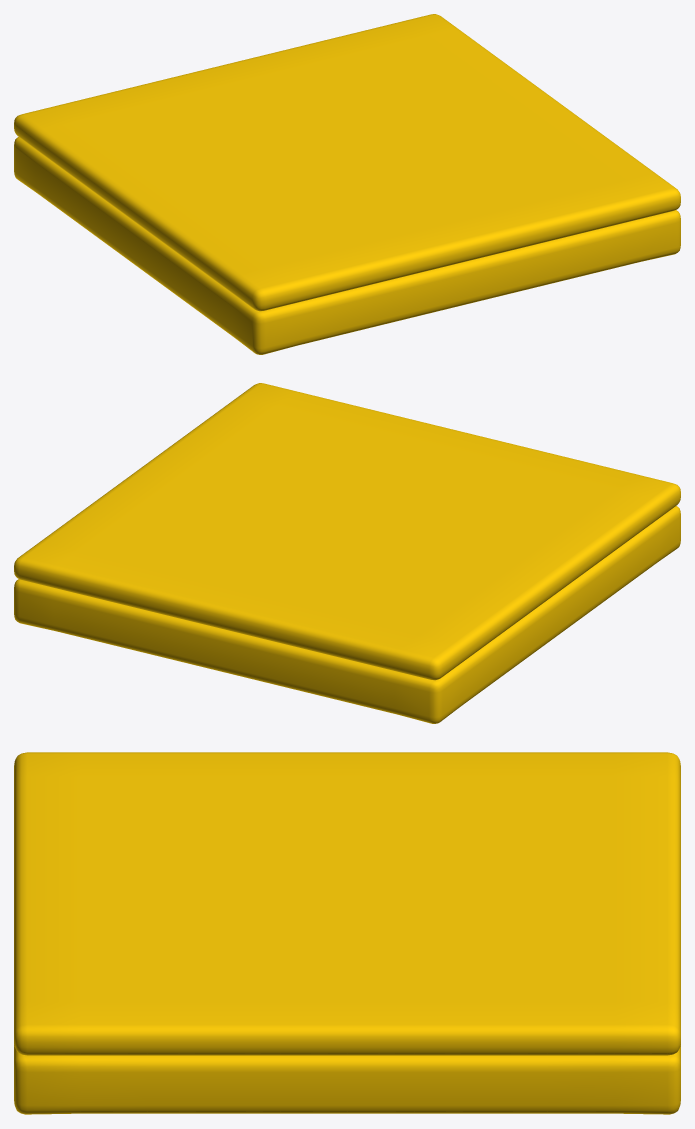
The model's file is Buton.FBX.
3 views of the same model, one above another, from view 1: azimuth 30°, elevation 25°; view 2: azimuth 150°, elevation 25°; view 3: azimuth 270°, elevation 25° (orthographic). The views are drawn at different scales.
Parts seen in each view (by area): view 1: Box006, Object015; view 2: Box006, Object015; view 3: Box006, Object015.
Part boxes in pixels (x1,y1,x2,y2): Box006: (14,14,680,311); Object015: (14,137,680,354); Box006: (14,383,680,680); Object015: (14,506,680,723); Box006: (14,752,680,1055); Object015: (14,1043,680,1114).
Bounding box in the file's own units: 100 × 100 × 14.45.
